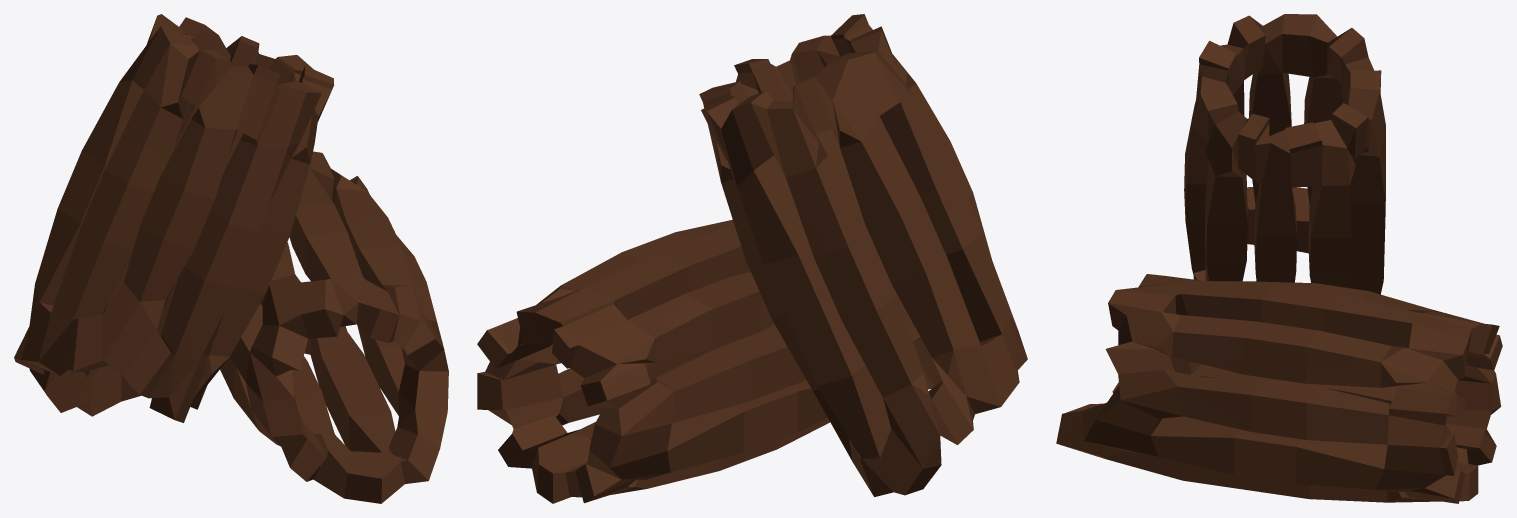
Rendered from wood4.glb.
3 renders of one model, left to right at view 1: azimuth 30°, elevation 25°; view 2: azimuth 150°, elevation 25°; view 3: azimuth 270°, elevation 25°, orthographic. The views are drawn at different scales.
Visible parts, largest first — view 1: Cylinder.002, Cylinder.001; view 2: Cylinder.002, Cylinder.001; view 3: Cylinder.001, Cylinder.002.
Boxes of the visible parts, bbox=[...] form: Cylinder.002: bbox=[14, 14, 334, 422]; Cylinder.001: bbox=[220, 151, 448, 503]; Cylinder.002: bbox=[699, 14, 1027, 496]; Cylinder.001: bbox=[477, 219, 829, 503]; Cylinder.001: bbox=[1056, 274, 1502, 503]; Cylinder.002: bbox=[1184, 14, 1385, 294].
Bounding box in the file's own units: 1.08 × 0.9988 × 1.03.
